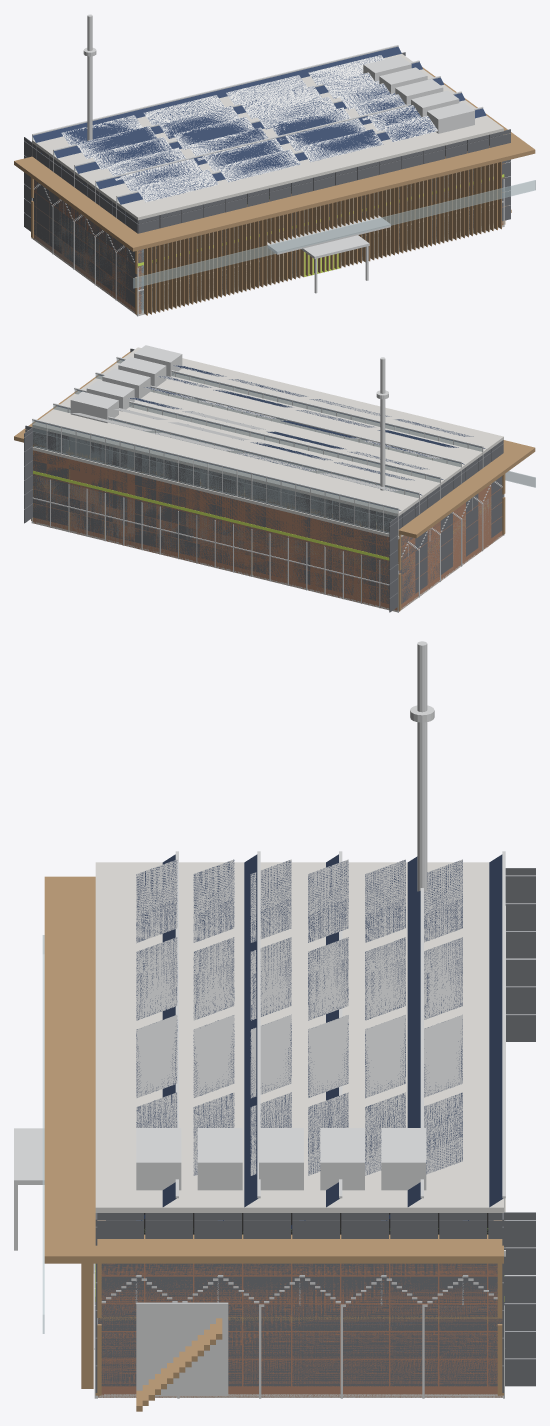
File: nbic.glb
3 renders of one model, top to bottom at view 1: azimuth 30°, elevation 25°; view 2: azimuth 150°, elevation 25°; view 3: azimuth 270°, elevation 25°, orthographic. The views are drawn at different scales.
Parts seen in each view (by area): view 1: datos, laboratorio, escuela, invernadero; view 2: datos, laboratorio, invernadero, escuela; view 3: datos, laboratorio, escuela, invernadero.
Part boxes in pixels (bbox=[...]): datos: bbox=[24, 14, 510, 315]; laboratorio: bbox=[32, 45, 503, 315]; escuela: bbox=[14, 67, 535, 314]; invernadero: bbox=[31, 179, 504, 316]; datos: bbox=[24, 345, 503, 612]; laboratorio: bbox=[32, 356, 502, 611]; invernadero: bbox=[31, 476, 504, 612]; escuela: bbox=[14, 351, 535, 610]; datos: bbox=[93, 641, 535, 1397]; laboratorio: bbox=[14, 851, 505, 1397]; escuela: bbox=[42, 876, 503, 1411]; invernadero: bbox=[94, 1263, 505, 1398].
Bounding box in the file's own units: 44 × 24 × 25.57.
